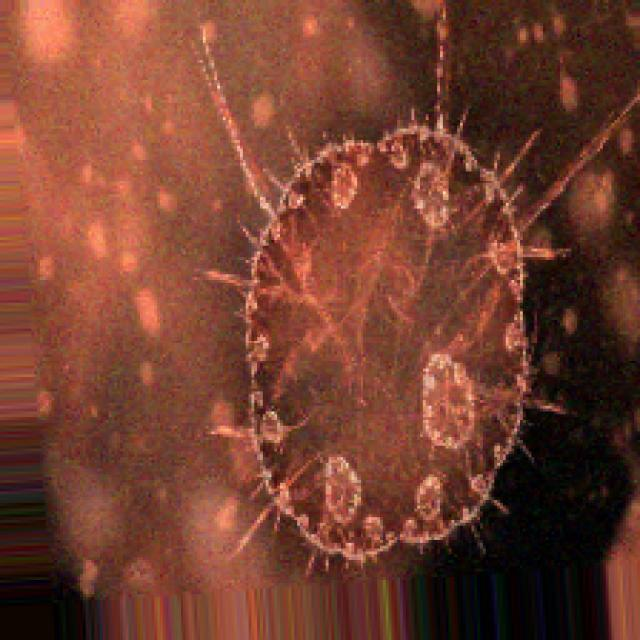Amoeba: (131, 0, 589, 583)
